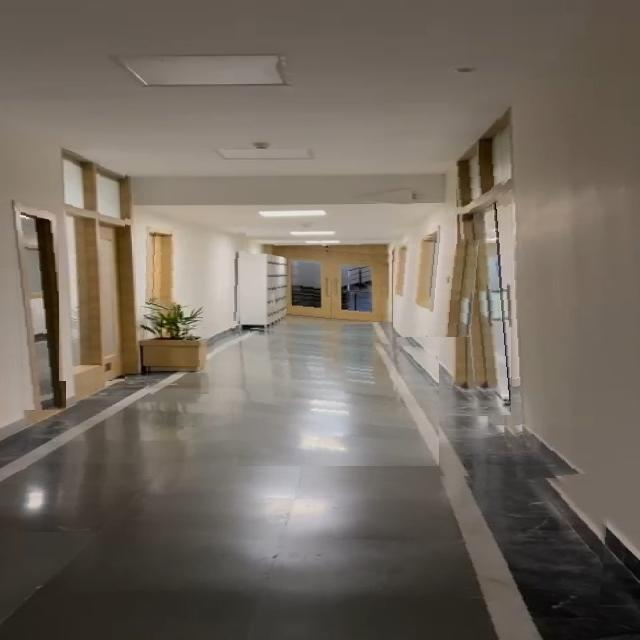door: (59, 156, 125, 381), (454, 160, 511, 417), (8, 200, 66, 410), (286, 246, 404, 322), (145, 230, 191, 305)
floor: (0, 466, 611, 640), (227, 326, 439, 466)
furniture: (144, 300, 214, 394)
wall: (496, 78, 640, 480), (393, 233, 479, 337), (203, 220, 247, 324)
